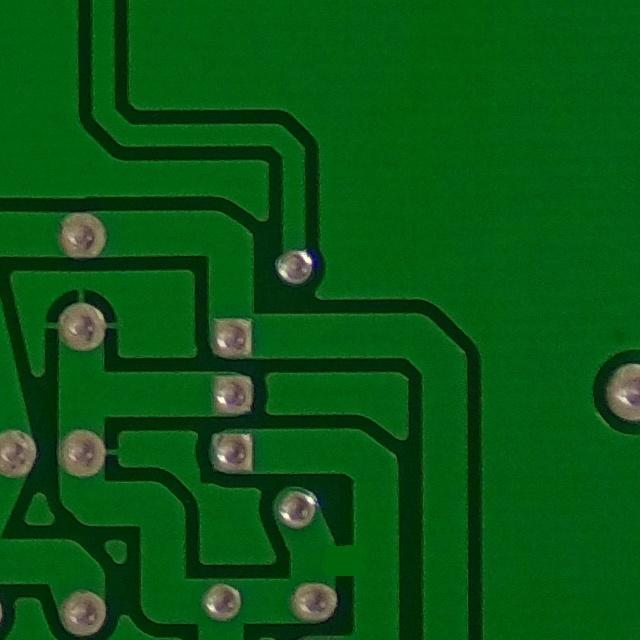short: (302, 522, 383, 596)
